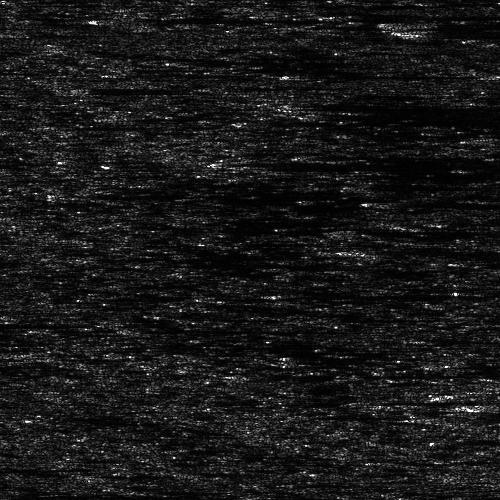object: (42, 142, 417, 181), (270, 241, 427, 260), (264, 8, 389, 23), (252, 94, 325, 115), (406, 397, 500, 412), (296, 224, 401, 235), (360, 15, 423, 32), (377, 23, 440, 40), (95, 320, 158, 337), (438, 69, 500, 80), (79, 15, 152, 22), (0, 313, 31, 328), (349, 198, 412, 205), (339, 180, 380, 189), (339, 398, 402, 403), (230, 118, 283, 123), (246, 290, 299, 295), (57, 86, 88, 93), (409, 360, 440, 367), (257, 73, 320, 76), (414, 219, 445, 224), (425, 414, 446, 421), (105, 71, 136, 74)
shadow: (229, 142, 500, 181), (289, 94, 500, 115), (127, 320, 299, 337), (349, 241, 500, 260), (326, 8, 500, 23), (392, 15, 500, 32), (349, 224, 500, 235), (409, 23, 500, 40), (257, 118, 500, 123), (116, 15, 285, 22), (273, 290, 500, 295), (360, 180, 481, 189), (381, 198, 500, 205), (73, 86, 184, 93), (289, 73, 466, 76), (425, 360, 500, 367), (436, 414, 500, 421), (430, 219, 500, 224), (121, 71, 233, 74), (371, 398, 432, 403), (0, 313, 18, 328), (0, 327, 26, 336)
